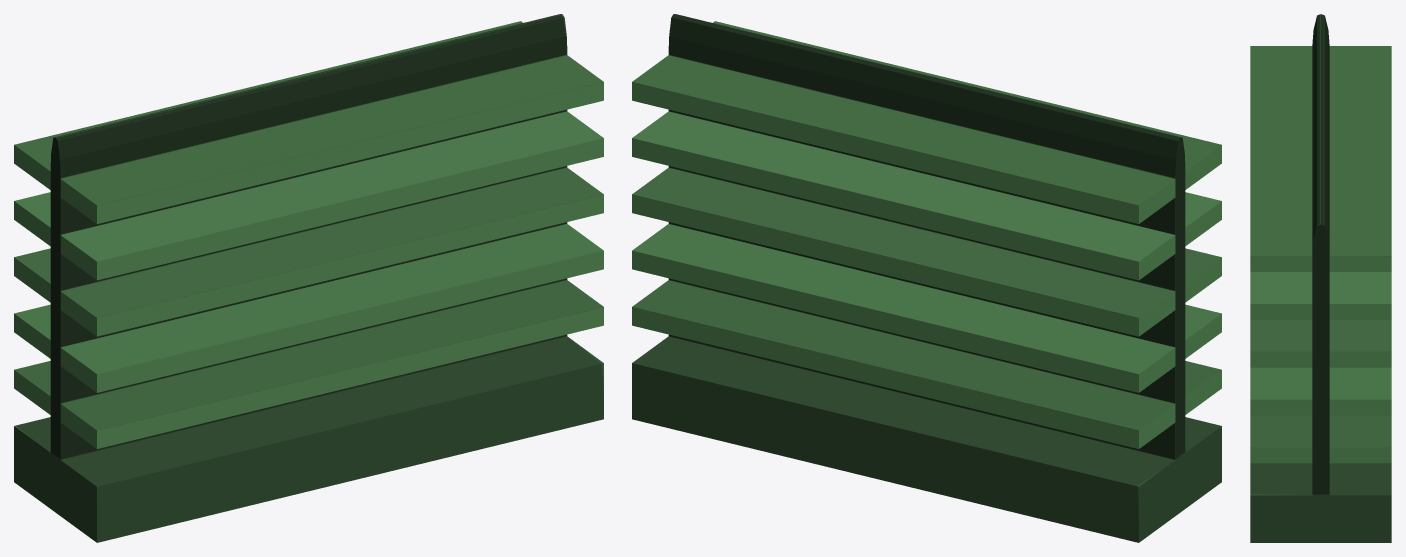
Rendered from Estante(con FBX).fbx.
The picture shows the model from 3 angles, left to right: view 1: azimuth 30°, elevation 25°; view 2: azimuth 150°, elevation 25°; view 3: azimuth 270°, elevation 25°; orthographic projection. The views are drawn at different scales.
Visible parts, largest first — view 1: pasted__pCube3; view 2: pasted__pCube3; view 3: pasted__pCube3.
Boxes of the visible parts, left/top/right/bottom form: pasted__pCube3: left=14, top=14, right=603, bottom=542; pasted__pCube3: left=632, top=14, right=1221, bottom=542; pasted__pCube3: left=1250, top=14, right=1391, bottom=542.
Size of the model in its own units: 3.26 by 2.31 by 0.9261.
